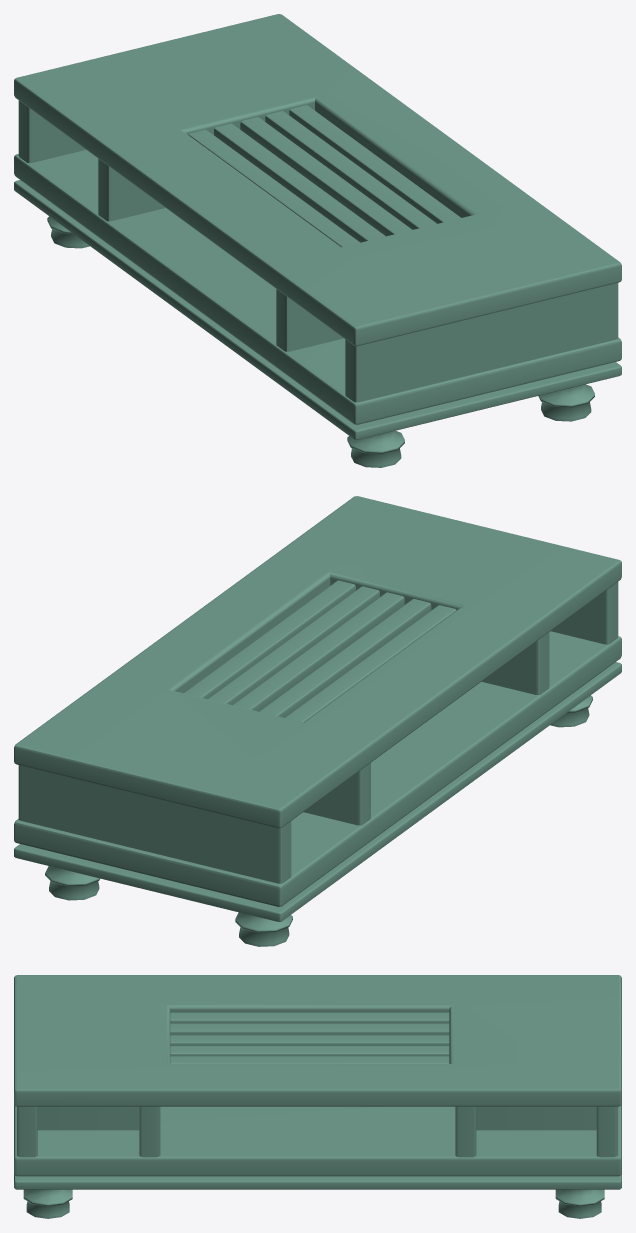
Rendered from livingroom_table.fbx.
3 renders of one model, top to bottom at view 1: azimuth 30°, elevation 25°; view 2: azimuth 150°, elevation 25°; view 3: azimuth 270°, elevation 25°, orthographic. The views are drawn at different scales.
Visible parts, largest first — view 1: pCube40; view 2: pCube40; view 3: pCube40.
Part boxes in pixels (box(x1,y1,x2,y2)): pCube40: box(14, 14, 621, 467); pCube40: box(14, 496, 621, 946); pCube40: box(14, 975, 621, 1218).
Size of the model in its own units: 0.9135 by 0.4982 by 2.02.
